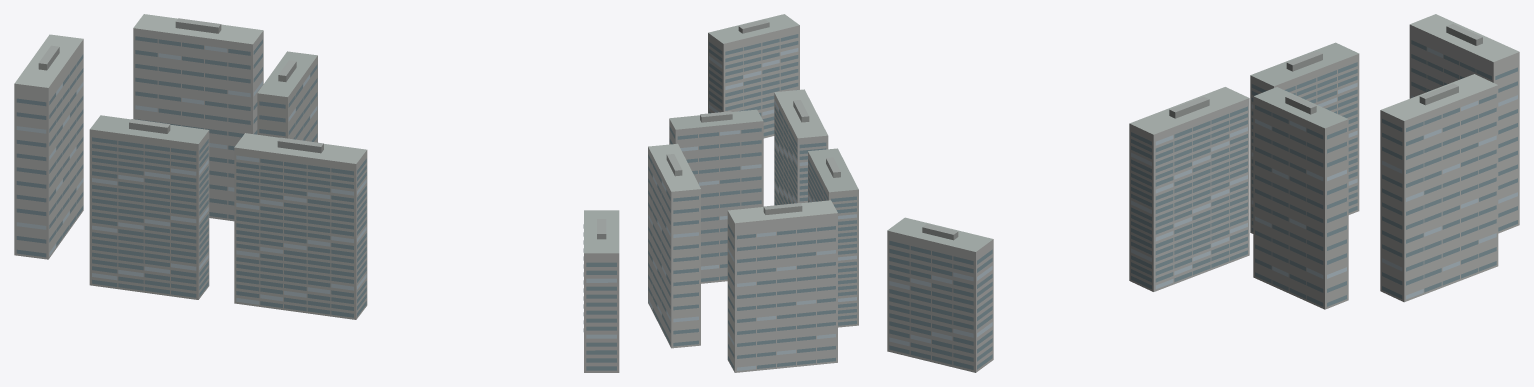
File: apt-a13880105.glb
3 views of the same model, side by side, from view 1: azimuth 30°, elevation 25°; view 2: azimuth 150°, elevation 25°; view 3: azimuth 270°, elevation 25° (orthographic). The views are drawn at different scales.
Visible parts, largest first — view 1: apt-a13880105; view 2: apt-a13880105; view 3: apt-a13880105.
Part boxes in pixels (x1,y1,x2,y2): apt-a13880105: [14, 14, 619, 372]; apt-a13880105: [648, 14, 858, 372]; apt-a13880105: [887, 14, 1519, 372].
Bounding box in the file's own units: 151 × 71 × 217.
